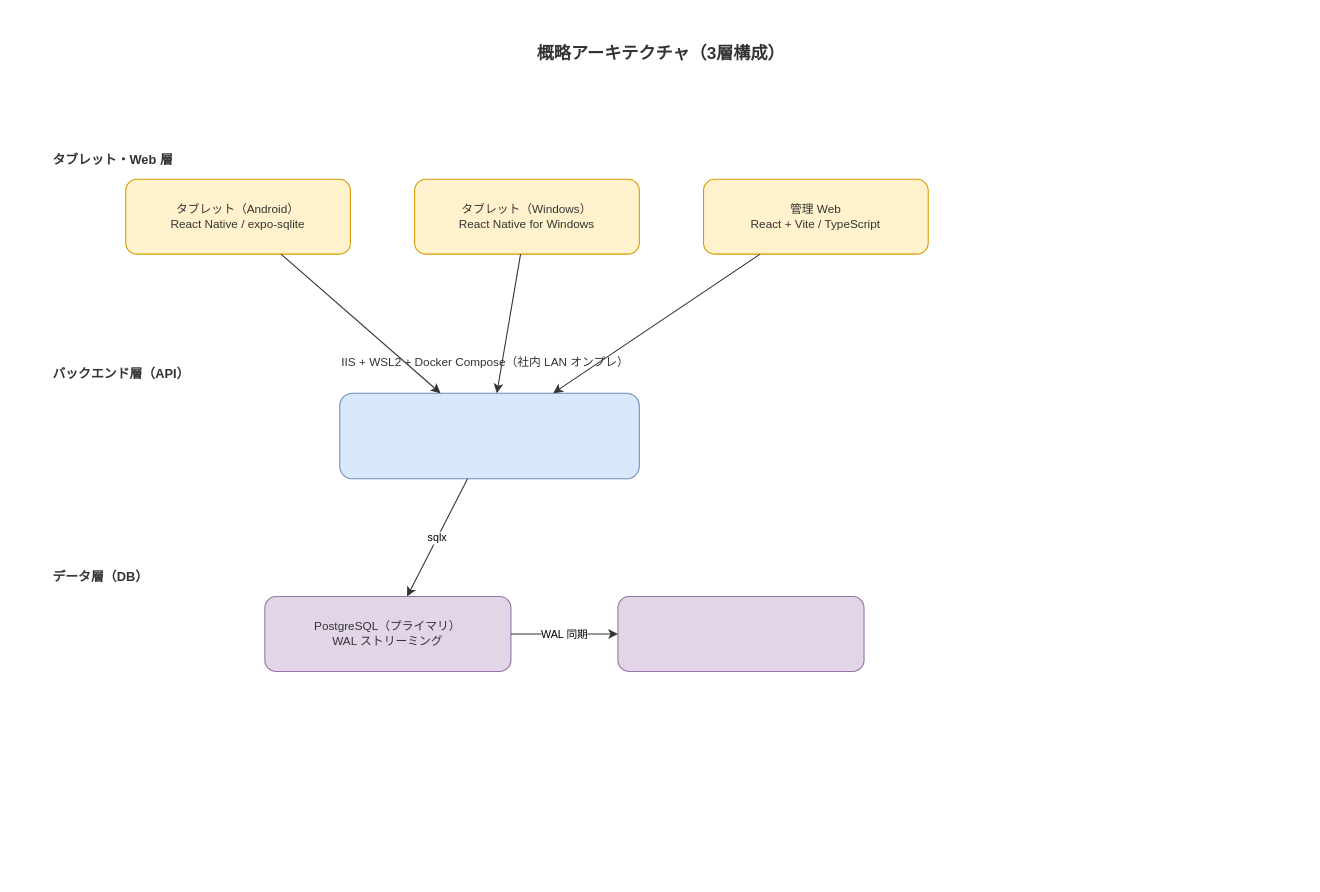
This 1320x892 diagram has some shape labels left out. The shapes that lost their labels are listed below. From the top down, each one's centre as x and y in pixels, then its label:
pixel 489 435: Rust API Server Axum + tokio + sqlx JWT 認証 / Append-only Event Log
pixel 740 633: PostgreSQL（スタンバイ） Active-Standby / BCP
